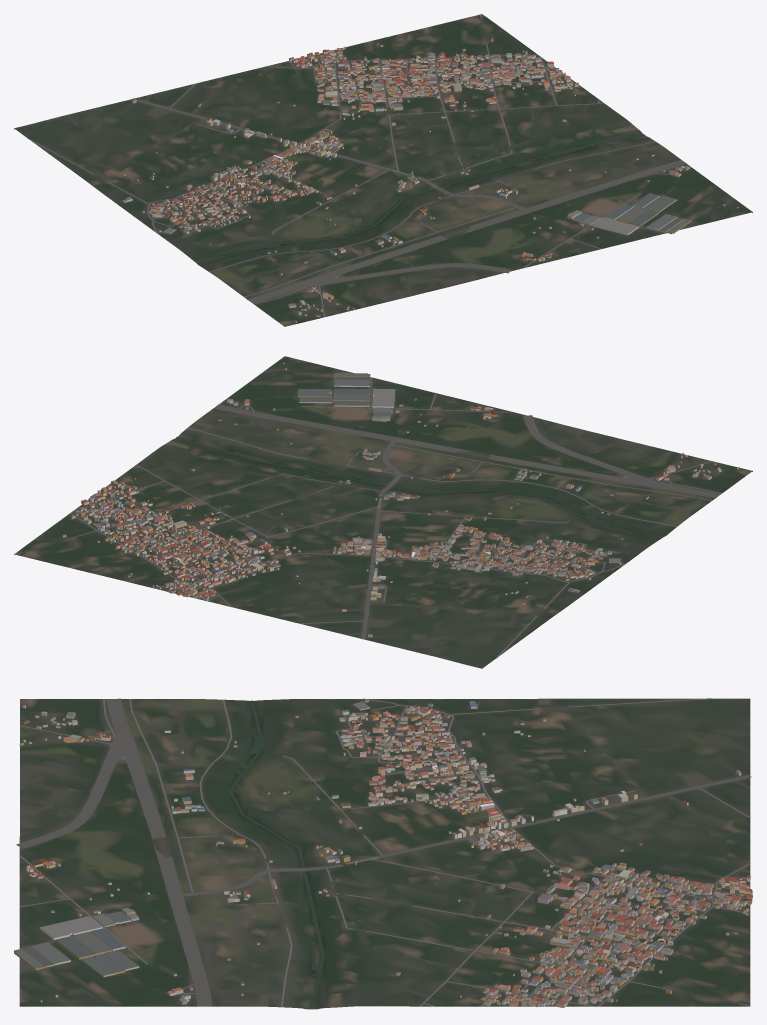
3 renders of one model, top to bottom at view 1: azimuth 30°, elevation 25°; view 2: azimuth 150°, elevation 25°; view 3: azimuth 270°, elevation 25°, orthographic. The views are drawn at different scales.
Parts seen in each view (by area): view 1: ground, buildings, roads, water; view 2: ground, buildings, roads, water; view 3: ground, buildings, roads, water.
Part boxes in pixels (x1=…): ground: x1=14, y1=14, x2=752, y2=326; buildings: x1=122, y1=38, x2=738, y2=322; roads: x1=28, y1=14, x2=686, y2=317; water: x1=198, y1=134, x2=644, y2=265; ground: x1=14, y1=356, x2=752, y2=668; buildings: x1=62, y1=362, x2=739, y2=637; roads: x1=15, y1=377, x2=721, y2=658; water: x1=176, y1=437, x2=666, y2=548; ground: x1=19, y1=698, x2=750, y2=1009; buildings: x1=14, y1=699, x2=752, y2=1007; roads: x1=16, y1=698, x2=751, y2=1007; water: x1=228, y1=700, x2=474, y2=1008.
Size of the model in its own units: 1408 by 22.74 by 1418.
